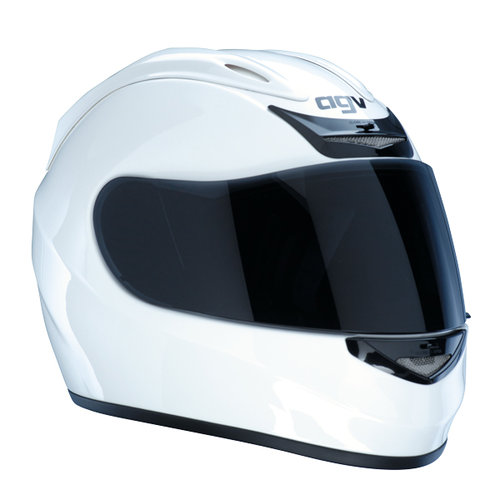helmet: (33, 62, 471, 456)
